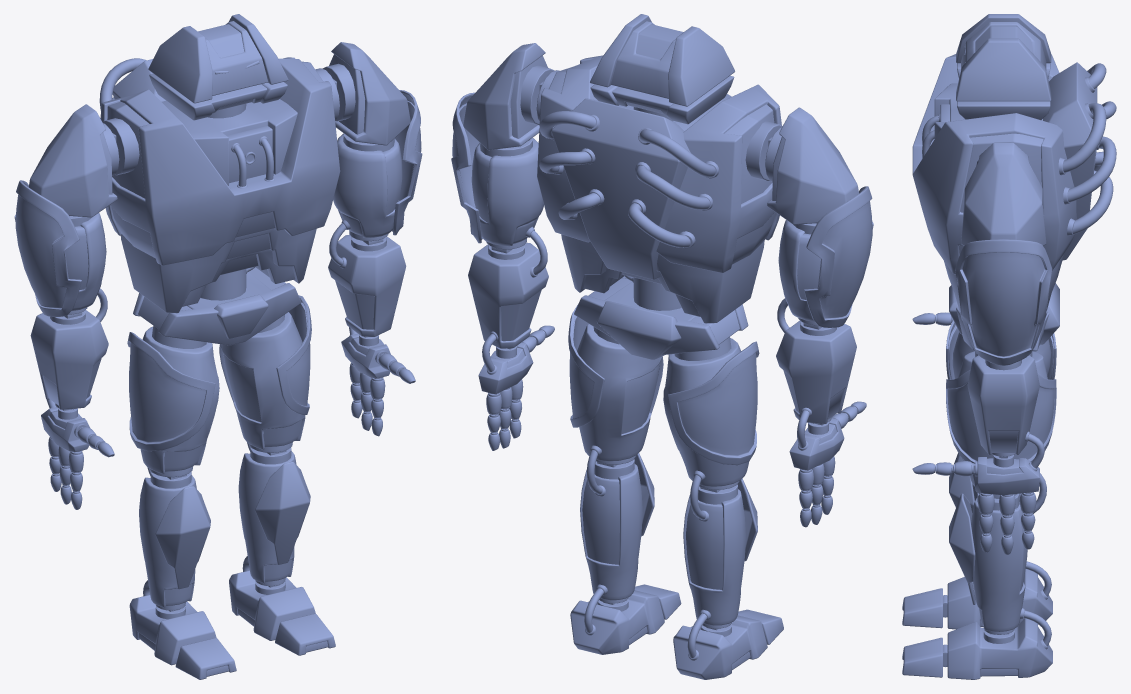
The model's file is Robot.fbx.
3 views of the same model, side by side, from view 1: azimuth 30°, elevation 25°; view 2: azimuth 150°, elevation 25°; view 3: azimuth 270°, elevation 25° (orthographic). The views are drawn at different scales.
Visible parts, largest first — view 1: Cube.009, Cube.005, Cube.012, Cube.003, Plane.001, Cylinder, Plane.002, Cube.002, Cylinder.003, Cube.031, Cylinder.009, Cube.007 (+27 smaller); view 2: Cube.009, Cube.013, Cube.005, Cube.003, Plane.001, Cylinder, Cube.012, Plane.002, Cylinder.003, Cube.031, Cylinder.009, Cylinder.097 (+28 smaller); view 3: Cube.009, Plane.002, Cube.012, Cube.031, Cube.005, Cylinder.003, Cube.003, Plane.001, Cube.013, Cube.002, Cube.004, Cube.025 (+16 smaller).
Boxes of the visible parts, left/top/right/bottom form: Cube.009: left=100, top=57, right=340, bottom=265; Cube.005: left=28, top=42, right=410, bottom=217; Cube.012: left=129, top=570, right=335, bottom=679; Cube.003: left=30, top=234, right=406, bottom=409; Plane.001: left=127, top=295, right=311, bottom=451; Cylinder: left=140, top=312, right=305, bottom=474; Plane.002: left=14, top=90, right=422, bottom=316; Cube.002: left=155, top=461, right=310, bottom=589; Cylinder.003: left=139, top=451, right=296, bottom=607; Cube.031: left=148, top=14, right=288, bottom=120; Cylinder.009: left=71, top=133, right=398, bottom=310; Cube.007: left=120, top=228, right=316, bottom=313; Cube.009: left=537, top=55, right=781, bottom=272; Cube.013: left=551, top=98, right=690, bottom=279; Cube.005: left=463, top=43, right=858, bottom=224; Cube.003: left=468, top=242, right=856, bottom=423; Plane.001: left=568, top=305, right=759, bottom=465; Cylinder: left=577, top=324, right=748, bottom=486; Cube.012: left=570, top=584, right=783, bottom=679; Plane.002: left=451, top=92, right=873, bottom=327; Cylinder.003: left=580, top=464, right=745, bottom=625; Cube.031: left=590, top=14, right=734, bottom=124; Cylinder.009: left=475, top=138, right=814, bottom=321; Cylinder.097: left=582, top=474, right=723, bottom=589; Cube.009: left=912, top=54, right=1076, bottom=274; Plane.002: left=955, top=239, right=1052, bottom=365; Cube.012: left=902, top=569, right=1052, bottom=679; Cube.031: left=956, top=14, right=1051, bottom=119; Cube.005: left=961, top=142, right=1046, bottom=245; Cylinder.003: left=971, top=484, right=1025, bottom=631; Cube.003: left=967, top=355, right=1039, bottom=454; Plane.001: left=946, top=320, right=1056, bottom=463; Cube.013: left=1043, top=62, right=1097, bottom=260; Cube.002: left=949, top=453, right=975, bottom=604; Cube.004: left=975, top=457, right=1039, bottom=495; Cube.025: left=960, top=133, right=1043, bottom=212.
Bounding box in the file's own units: 161 × 235 × 74.22.
